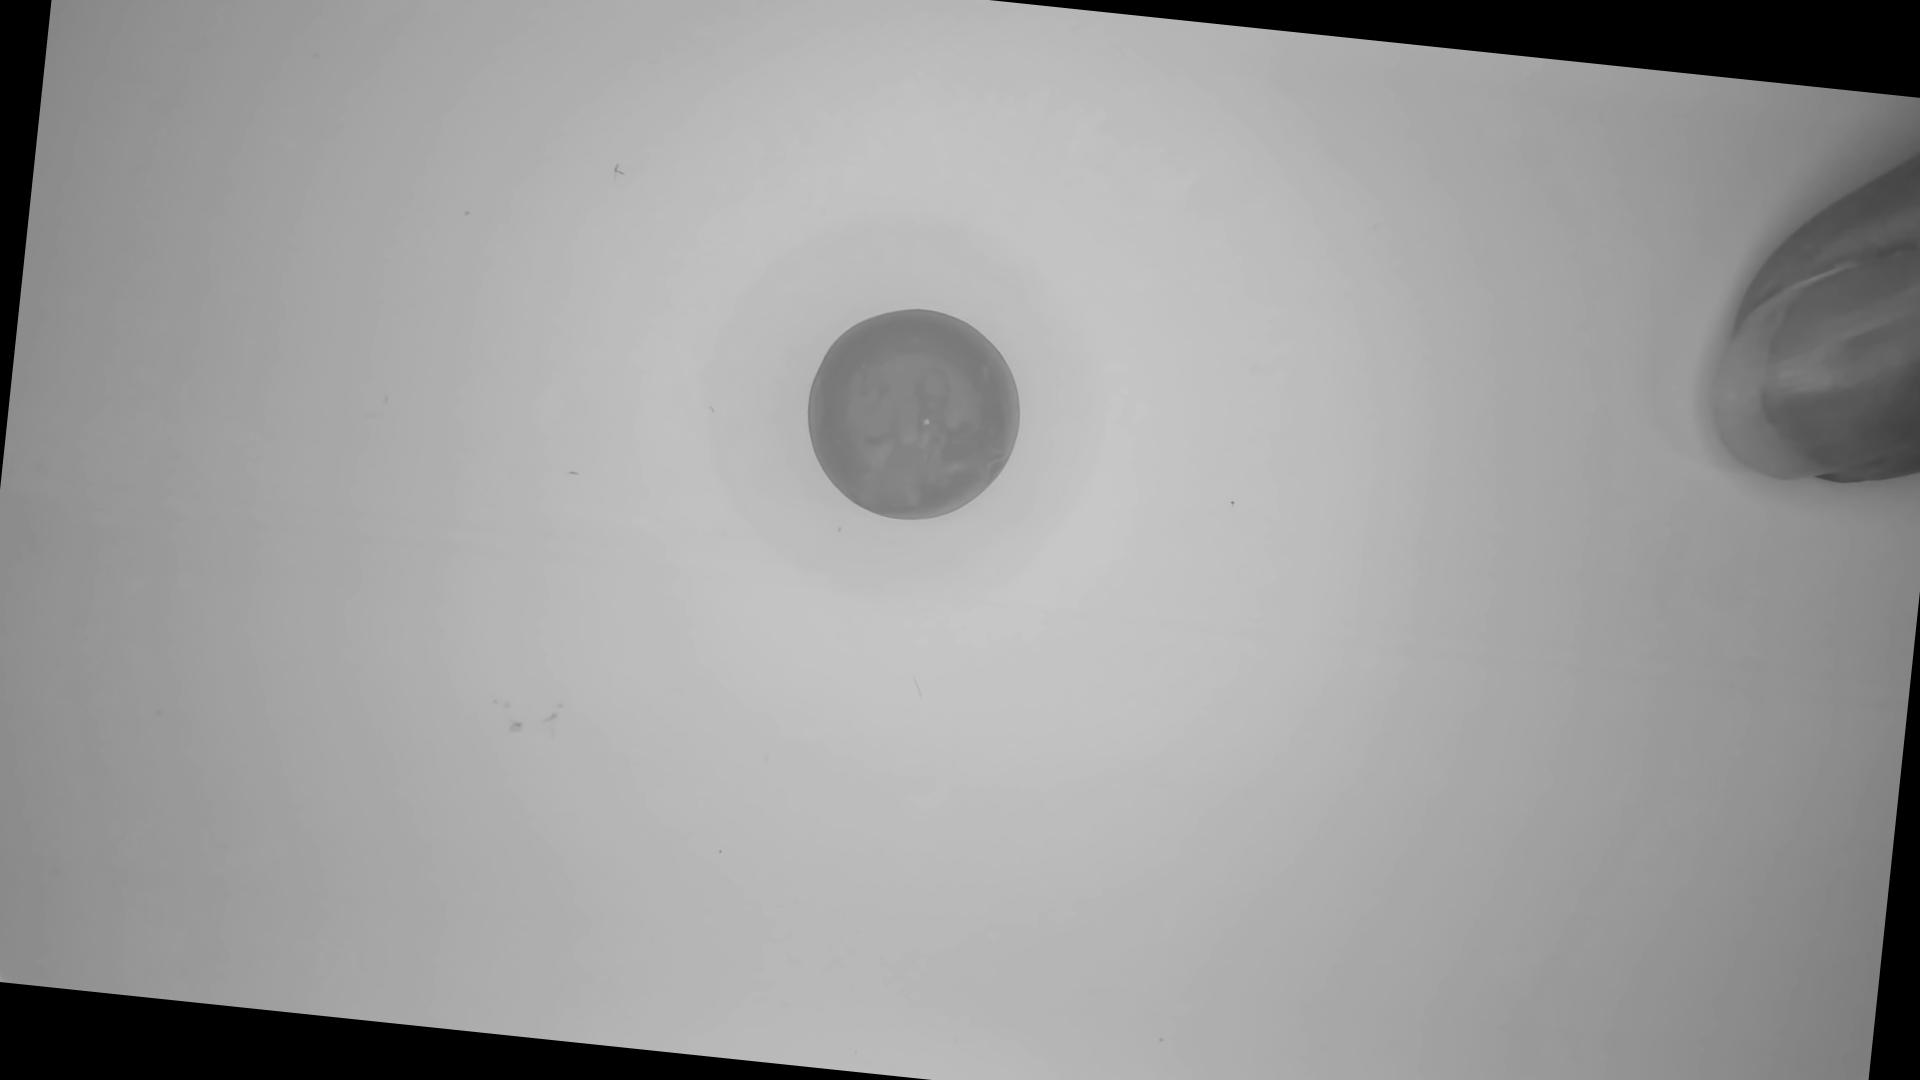abnormal: (795, 295, 1034, 535)
